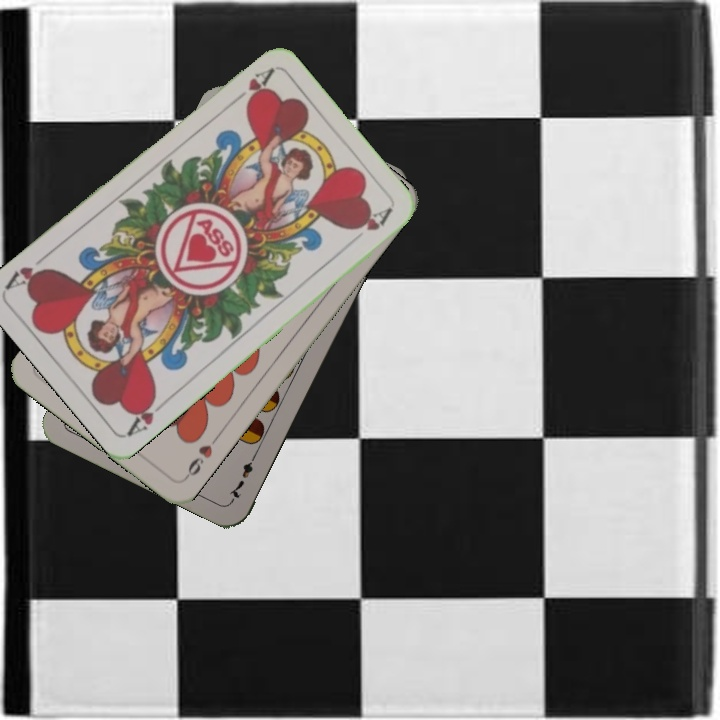E7: (224, 448, 260, 504)
H9: (180, 432, 221, 483)
HA: (123, 391, 172, 439), (225, 65, 276, 109)
